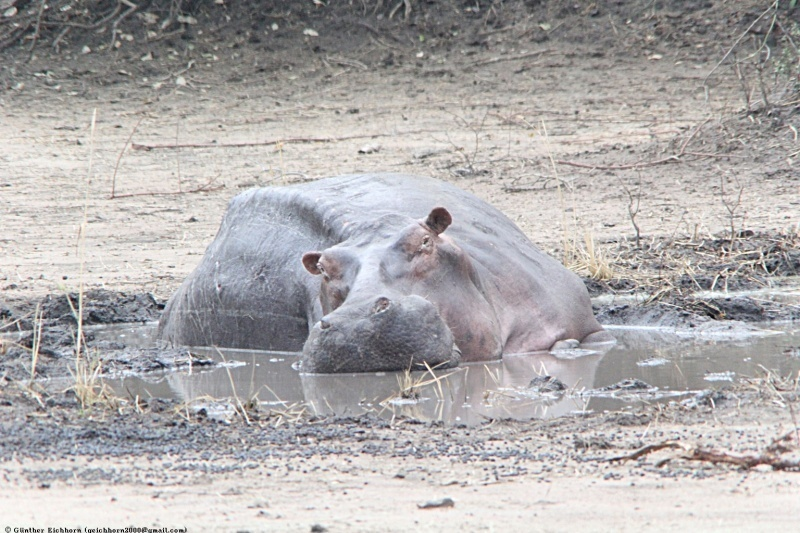hipopotamo: (153, 161, 624, 395)
